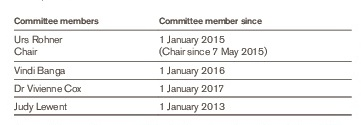table: (0, 0, 361, 125)
